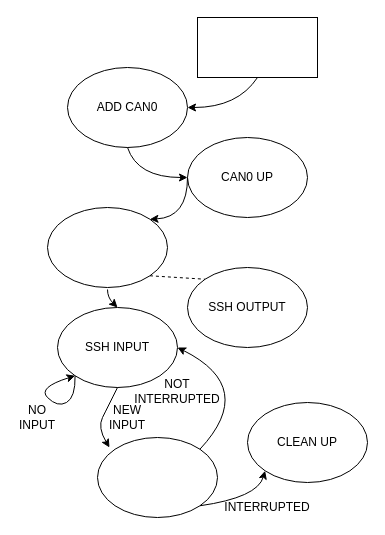
Image size: 385x535. Some labels were removed from this diagram. Each missing label, with the box of its shape:
CANDUMP: (46, 206, 168, 288)
CANSEND: (96, 436, 218, 518)
INIT: (196, 16, 318, 78)
